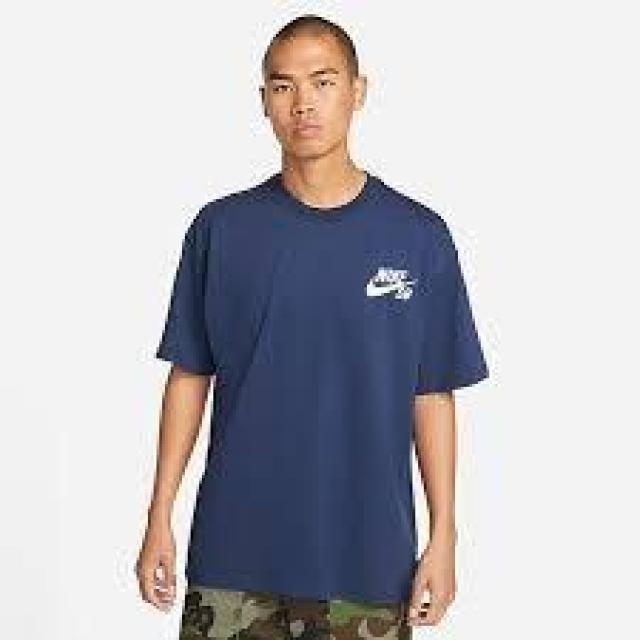Tshirt: (151, 174, 489, 608)
